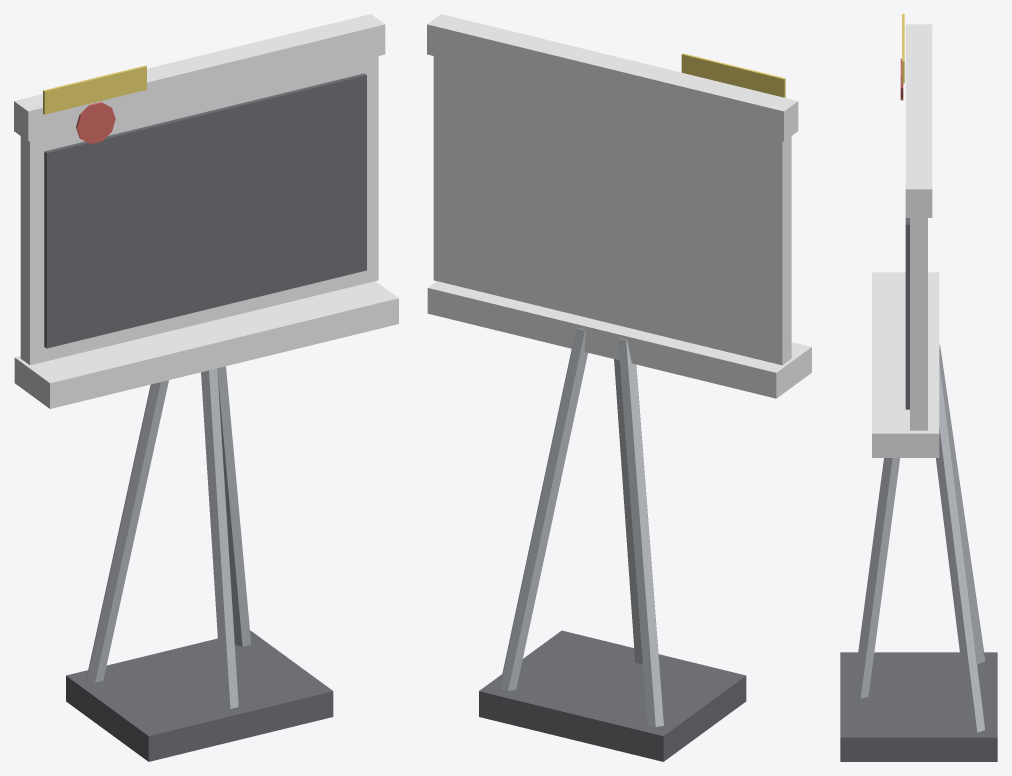
File: racecourse-and-parade-ring-bookmakers-pitch-board-f9c76d91__38627.glb
3 renders of one model, left to right at view 1: azimuth 30°, elevation 25°; view 2: azimuth 150°, elevation 25°; view 3: azimuth 270°, elevation 25°, orthographic. The views are drawn at different scales.
Visible parts, largest first — view 1: bookmakers-pitch-board; view 2: bookmakers-pitch-board; view 3: bookmakers-pitch-board.
Part boxes in pixels (x1=…): bookmakers-pitch-board: x1=14, y1=14, x2=398, y2=761; bookmakers-pitch-board: x1=427, y1=14, x2=811, y2=761; bookmakers-pitch-board: x1=840, y1=14, x2=997, y2=761.
Size of the model in its own units: 1.74 by 3.09 by 0.6999.
